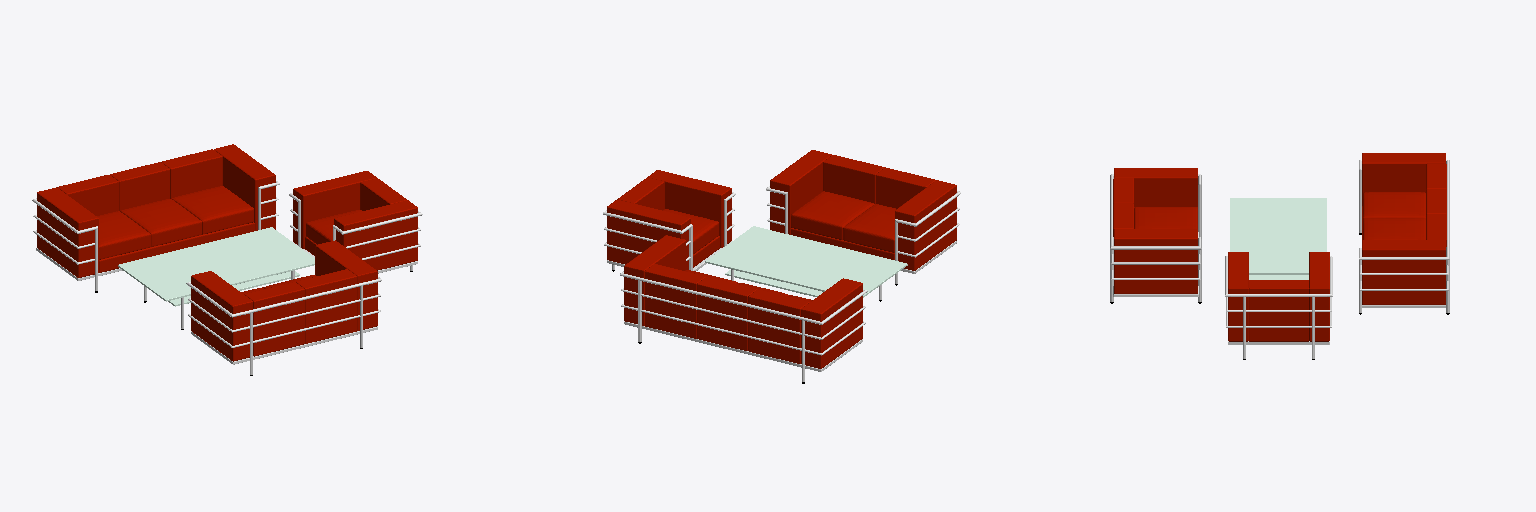
Rendered from sofa.obj.
3 views of the same model, side by side, from view 1: azimuth 30°, elevation 25°; view 2: azimuth 150°, elevation 25°; view 3: azimuth 270°, elevation 25° (orthographic).
Parts seen in each view (by area): view 1: Box001, Box010, Box003, Box008, Object001, Object006, Object014, Object004, Box007, Object015, Box012, Cylinder001 (+2 smaller); view 2: Box001, Box010, Box008, Box003, Object012, Object015, Box012, Object014, Cylinder001, Object003, Box011, Box009; view 3: Box001, Box010, Box008, Box003, Object014, Object004, Object015, Cylinder001, Object012, Object006, Box012.
Boxes of the visible parts, x1,y1,x2,y2 form: Box001: [37, 144, 275, 277]; Box010: [191, 240, 377, 361]; Box003: [293, 171, 417, 270]; Box008: [118, 227, 314, 301]; Object001: [171, 186, 253, 234]; Object006: [120, 199, 201, 246]; Object014: [186, 277, 381, 374]; Object004: [97, 211, 150, 259]; Box007: [99, 222, 254, 272]; Object015: [32, 181, 279, 290]; Box012: [36, 242, 417, 364]; Cylinder001: [289, 193, 422, 270]; Box001: [624, 235, 862, 368]; Box010: [770, 150, 956, 270]; Box008: [705, 226, 907, 297]; Box003: [607, 170, 731, 269]; Object012: [791, 191, 895, 252]; Object015: [620, 271, 867, 381]; Box012: [607, 241, 956, 371]; Object014: [766, 186, 960, 283]; Cylinder001: [603, 192, 735, 270]; Object003: [662, 209, 718, 253]; Box011: [791, 228, 894, 259]; Box009: [725, 270, 822, 296]; Box001: [1362, 153, 1446, 304]; Box010: [1113, 168, 1197, 293]; Box008: [1230, 198, 1326, 274]; Box003: [1228, 252, 1329, 341]; Object014: [1110, 174, 1201, 301]; Object004: [1363, 192, 1425, 217]; Object015: [1359, 160, 1449, 312]; Cylinder001: [1225, 256, 1332, 358]; Object012: [1134, 207, 1197, 228]; Object006: [1363, 218, 1425, 239]; Box012: [1113, 232, 1445, 344].
Bounding box in the file's own units: 102 × 25.61 × 108.